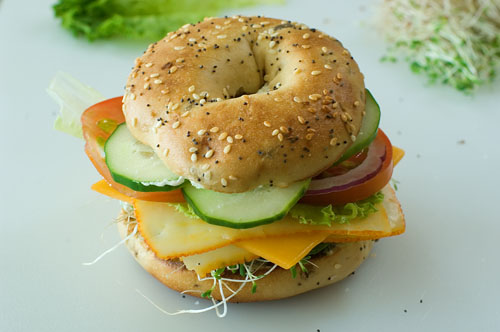cucumber: (185, 179, 309, 228), (106, 123, 186, 192), (332, 87, 381, 167)
